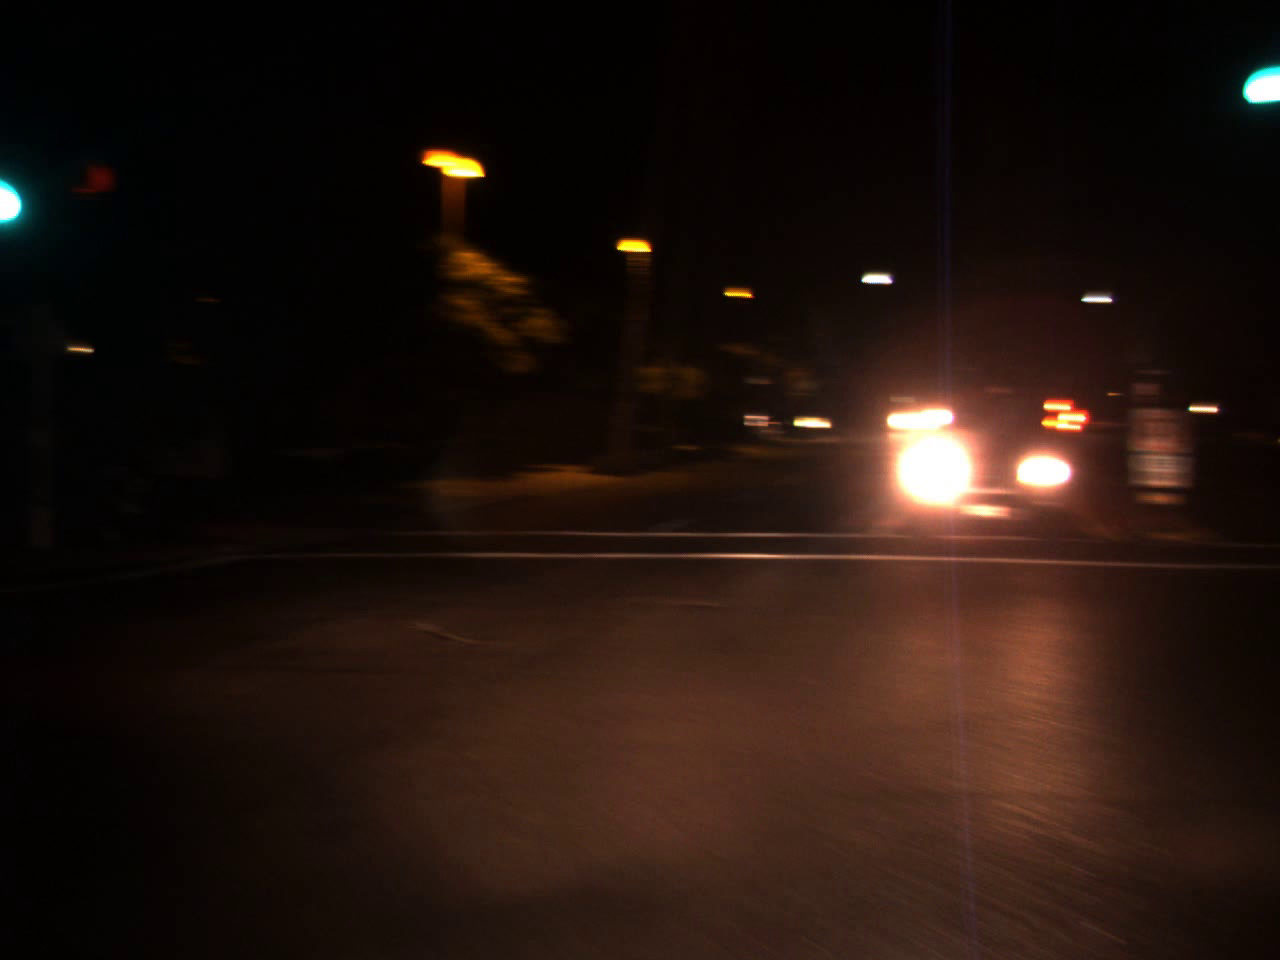go: (1231, 29, 1280, 113), (0, 137, 24, 233)
